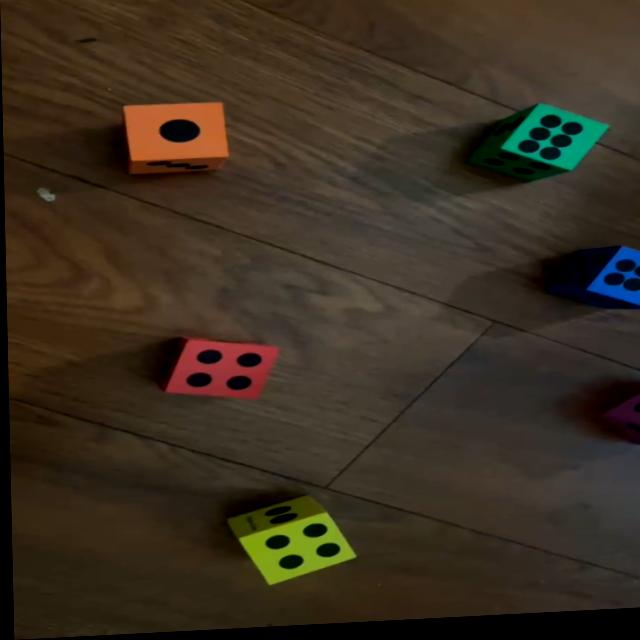cube: (468, 107, 611, 191), (162, 335, 279, 404), (545, 253, 640, 319)
